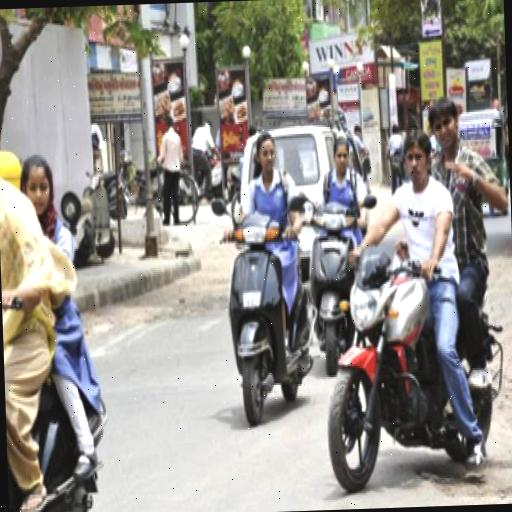no helmet: (327, 114, 489, 472), (212, 117, 316, 414), (302, 119, 373, 314)
